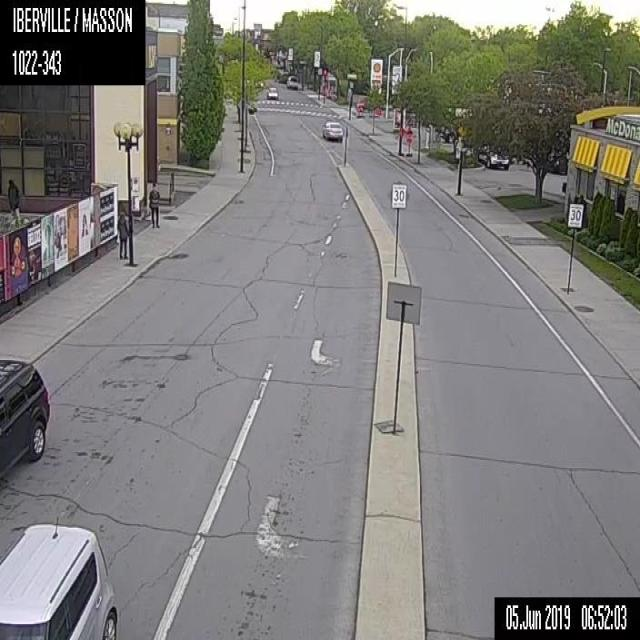construction: (404, 125, 414, 156), (356, 104, 364, 113)
pedestrian: (6, 176, 20, 218), (147, 180, 159, 228), (116, 210, 128, 258)
vehicle: (0, 521, 119, 639), (0, 356, 51, 480), (478, 144, 509, 170), (321, 119, 342, 139), (286, 75, 298, 89), (266, 85, 278, 99)
